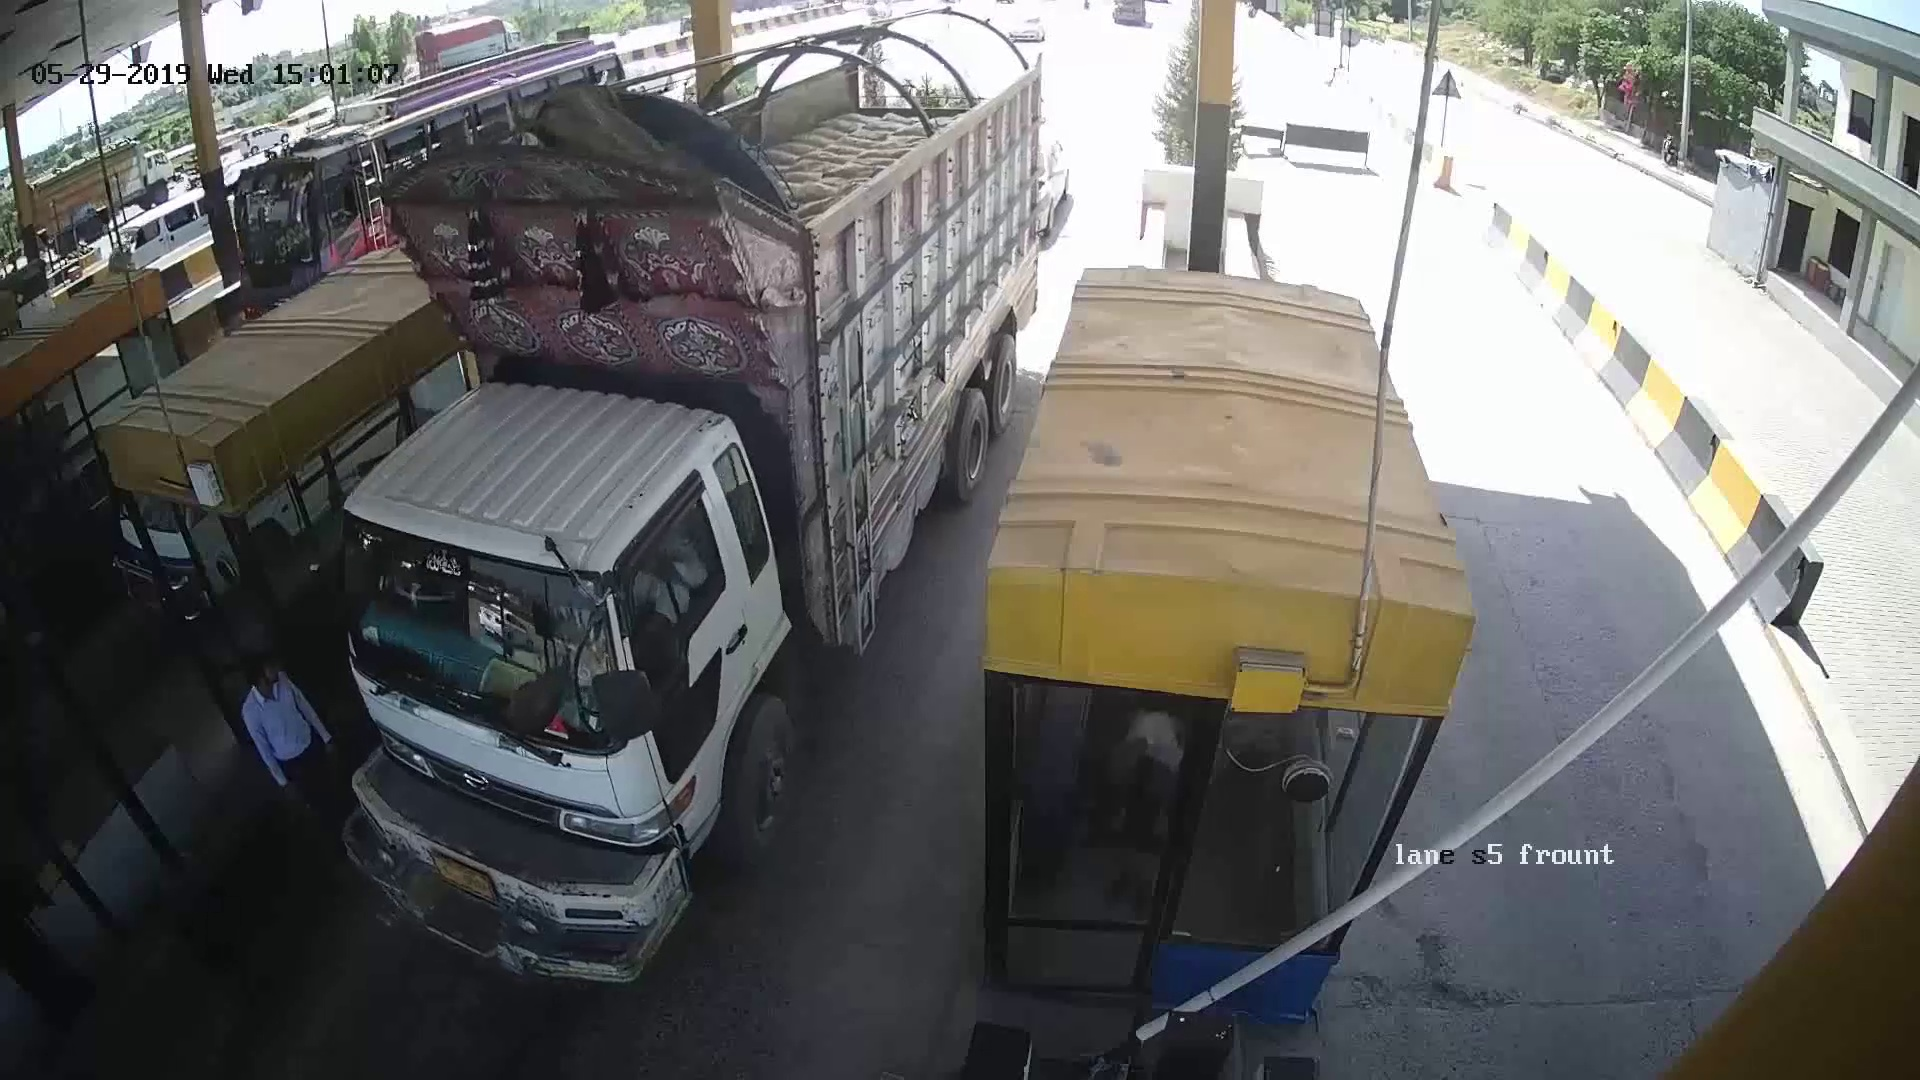truck: (364, 109, 980, 916)
